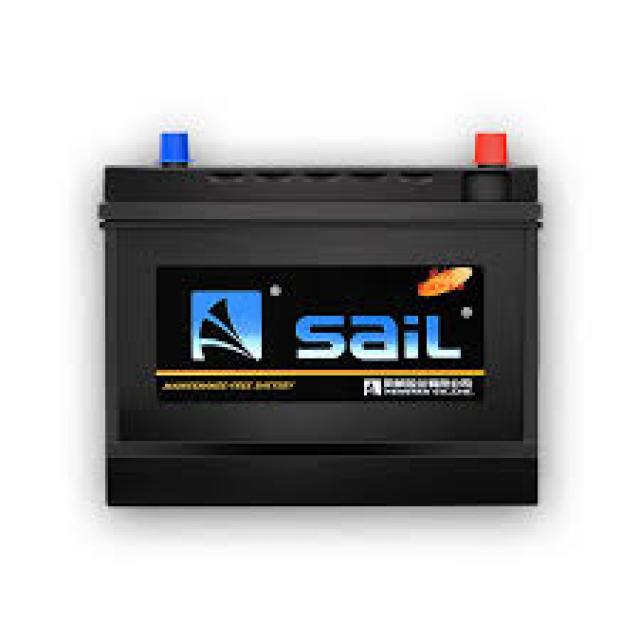non-organic waste: (98, 128, 544, 512)
